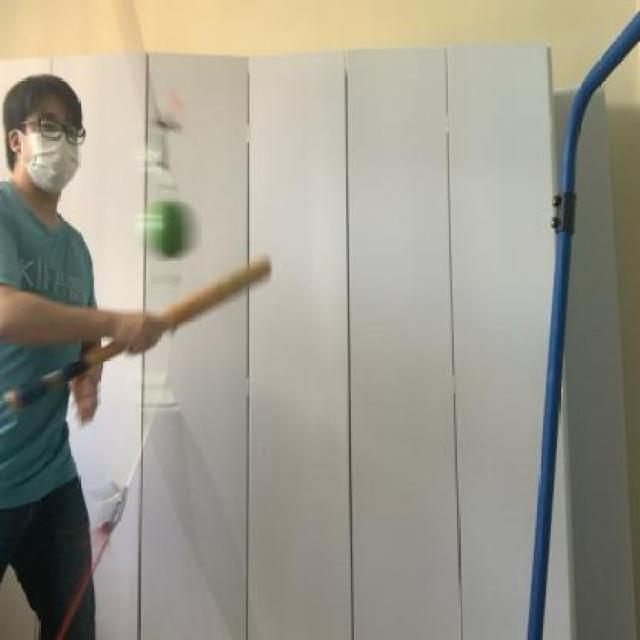baseball: (142, 188, 190, 242)
